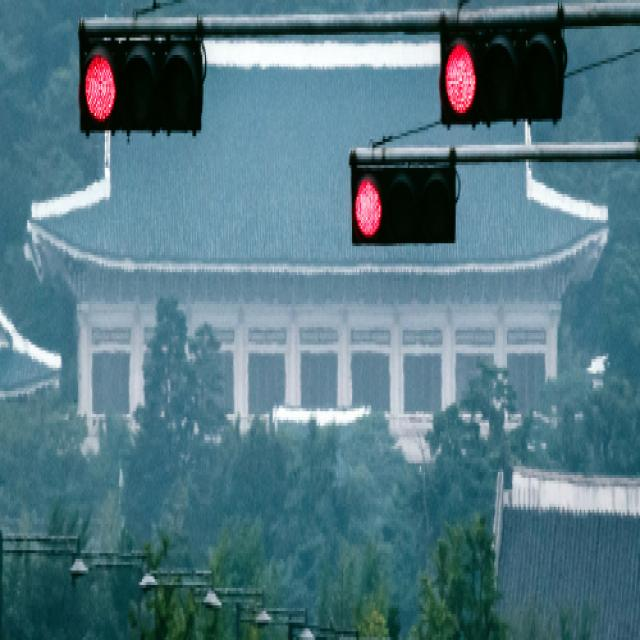red_light: (61, 18, 217, 151)
